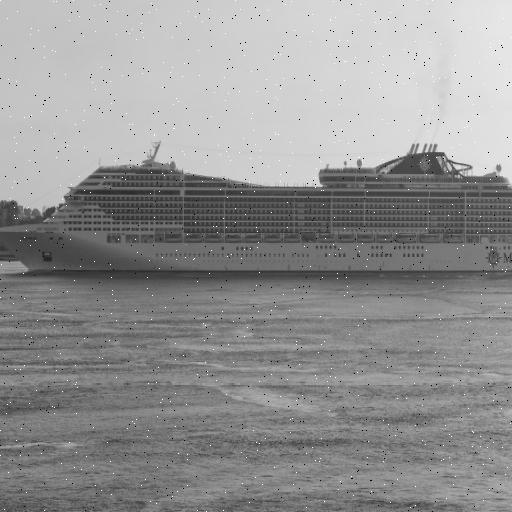cruises: (1, 114, 512, 287)
